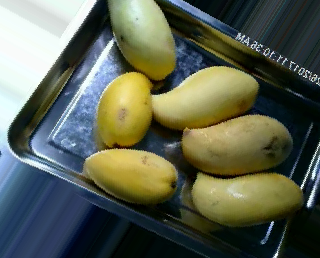Mango: (148, 63, 257, 131), (183, 112, 294, 176), (191, 173, 305, 224), (107, 0, 176, 79), (84, 148, 179, 202), (95, 71, 152, 146)
